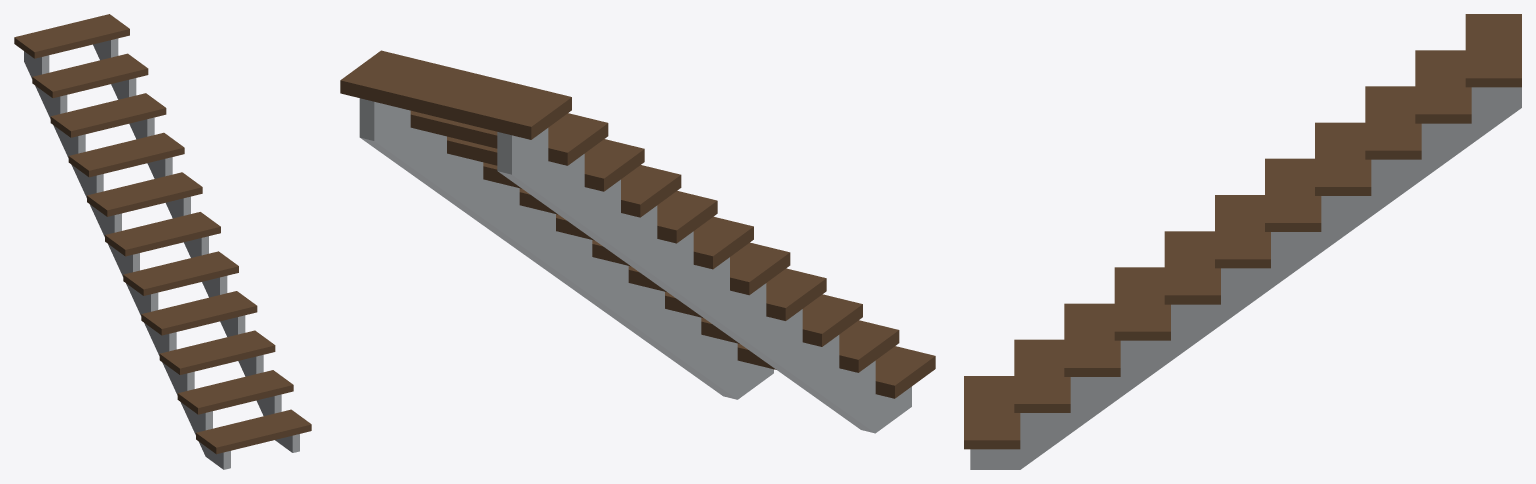
File: stairs_open.glb
3 views of the same model, side by side, from view 1: azimuth 30°, elevation 25°; view 2: azimuth 150°, elevation 25°; view 3: azimuth 270°, elevation 25° (orthographic). The views are drawn at different scales.
Parts seen in each view (by area): view 1: stairs_open; view 2: stairs_open; view 3: stairs_open.
Boxes of the visible parts, bbox=[...] form: stairs_open: bbox=[14, 14, 311, 469]; stairs_open: bbox=[340, 50, 935, 433]; stairs_open: bbox=[964, 14, 1521, 469].
Bounding box in the file's own units: 0.9 × 2.6 × 3.3.
